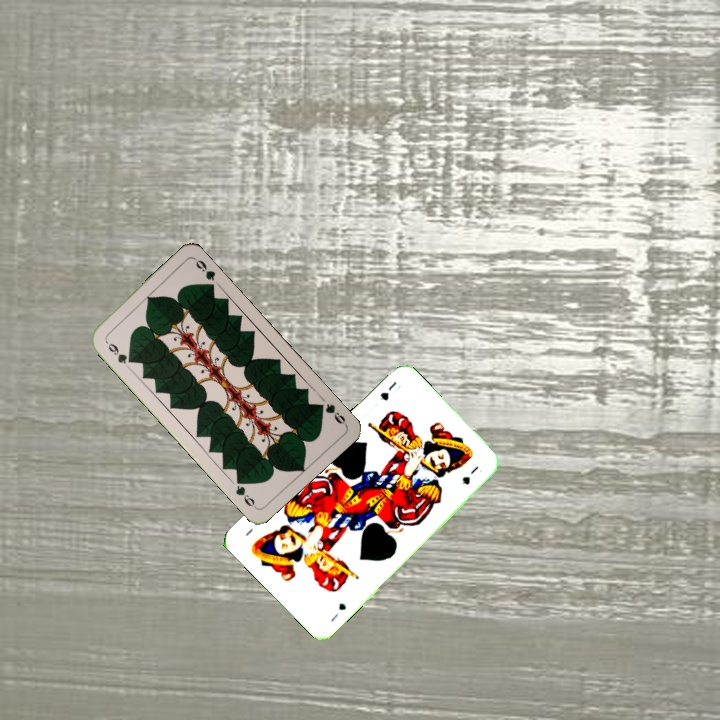G9: (101, 336, 136, 367), (312, 399, 349, 428)
GU: (376, 377, 403, 403), (327, 599, 349, 625)
